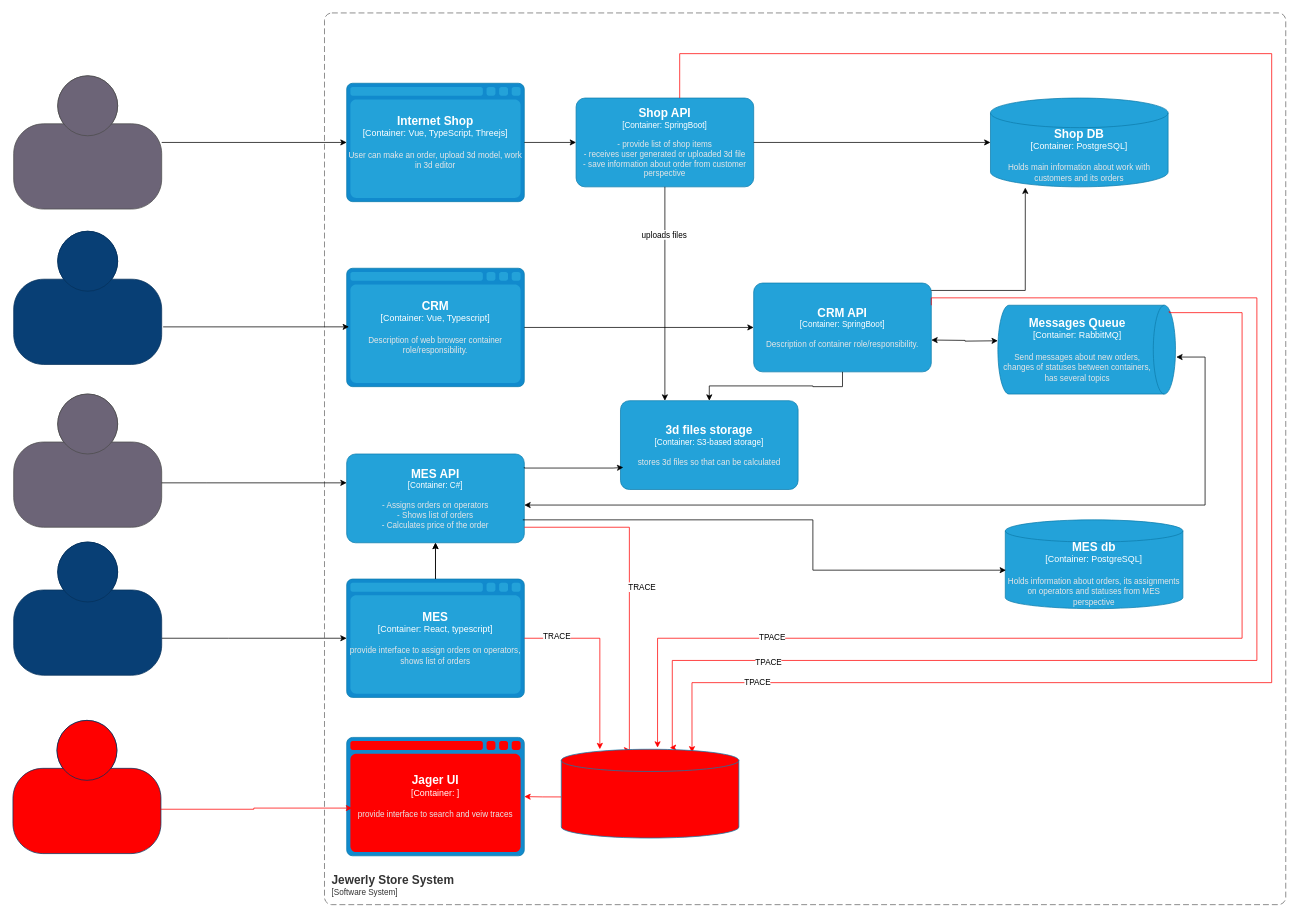
Image size: 1299x918. Some labels were removed from this diagram. The shapes that lost their labels are listed below. From the top down, each one's centre as x and y in pixels, then its label:
At (x=87, y=142): "Customer [Person] Description of external person.".
At (x=87, y=297): "Seller [Person] Operates with order, confirms manufacturing for the user".
At (x=87, y=460): "API user [Person] Description of external person.".
At (x=87, y=608): "Operator [Person] Takes order in work, manufactures jewerly".
At (x=86, y=787): "Developer [Person]".
At (x=650, y=793): "Jager [Container: ] Collect and hold traces".
